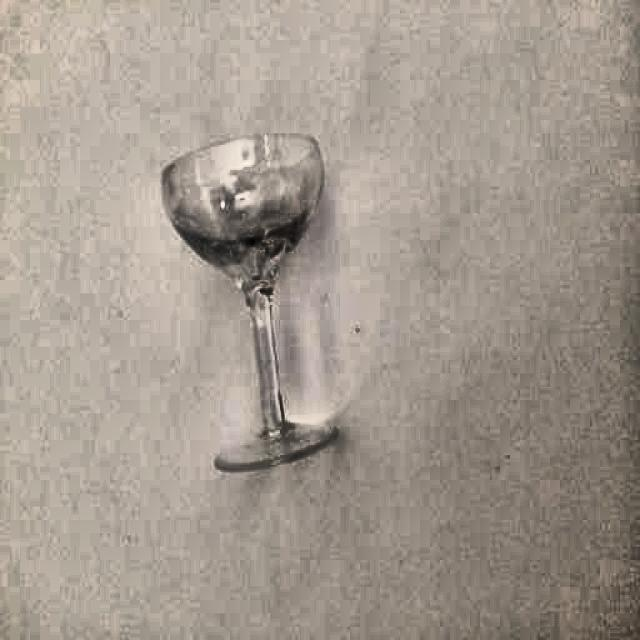glass: (154, 128, 354, 476)
